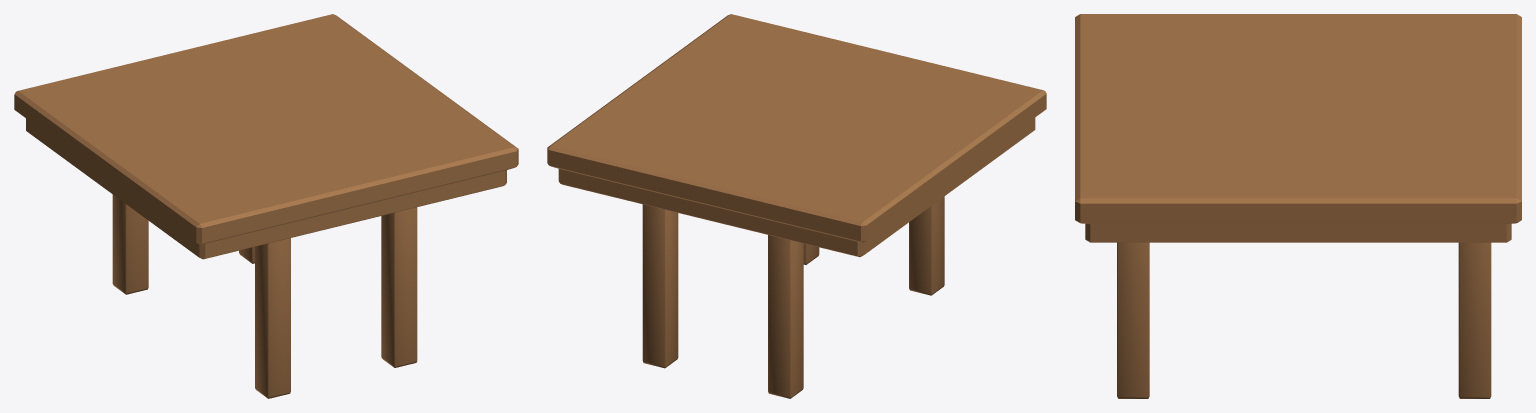
File: Table2.fbx
3 views of the same model, side by side, from view 1: azimuth 30°, elevation 25°; view 2: azimuth 150°, elevation 25°; view 3: azimuth 270°, elevation 25° (orthographic). The views are drawn at different scales.
Visible parts, largest first — view 1: Plane.005, Cube.024, Cube.025, Cube.027; view 2: Plane.005, Cube.026, Cube.027, Cube.025; view 3: Plane.005, Cube.026, Cube.024.
Part boxes in pixels (x1,y1,x2,y2): Plane.005: (14, 14, 518, 259); Cube.024: (381, 207, 417, 367); Cube.025: (255, 238, 290, 398); Cube.027: (112, 194, 148, 294); Plane.005: (547, 14, 1046, 257); Cube.026: (642, 204, 678, 368); Cube.027: (768, 235, 803, 398); Cube.025: (909, 196, 944, 295); Plane.005: (1075, 14, 1521, 242); Cube.026: (1458, 242, 1491, 398); Cube.024: (1117, 242, 1149, 398).
Bounding box in the file's own units: 300 × 184 × 300.
